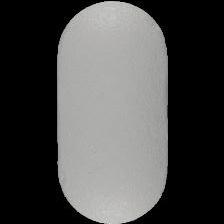68382-131: (0, 0, 224, 224)
